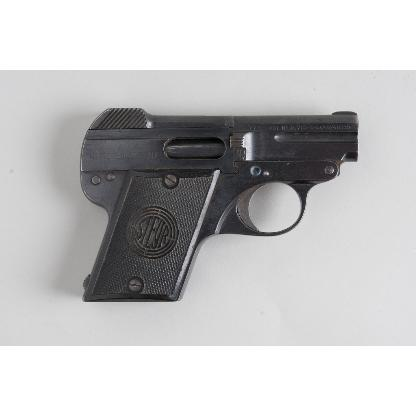gun: (80, 106, 358, 302)
